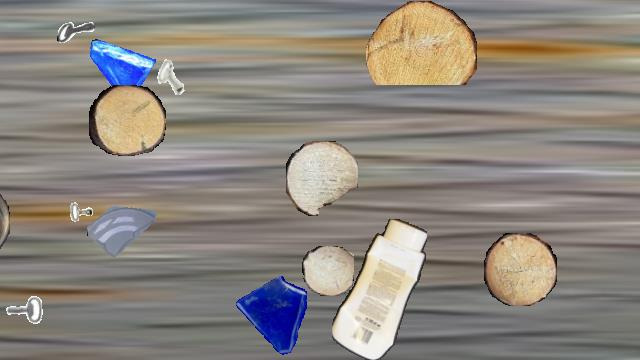glass: (232, 275, 316, 359), (87, 189, 159, 261), (86, 36, 156, 106)
metal: (146, 52, 198, 104), (54, 200, 102, 248), (0, 294, 45, 344), (57, 12, 95, 50)
plastic: (332, 219, 426, 359), (0, 184, 10, 258)
wood: (366, 1, 476, 85), (286, 141, 358, 215), (89, 85, 165, 155), (484, 233, 556, 305), (302, 246, 354, 296)
